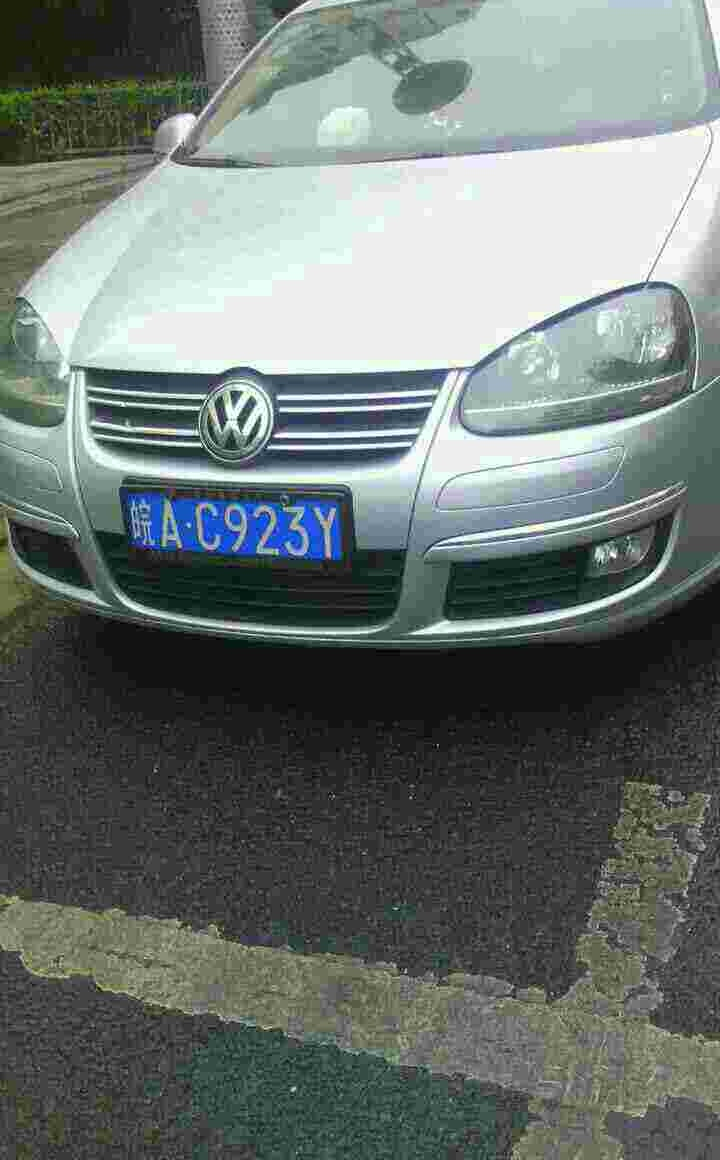license_plate: (132, 499, 345, 560)
